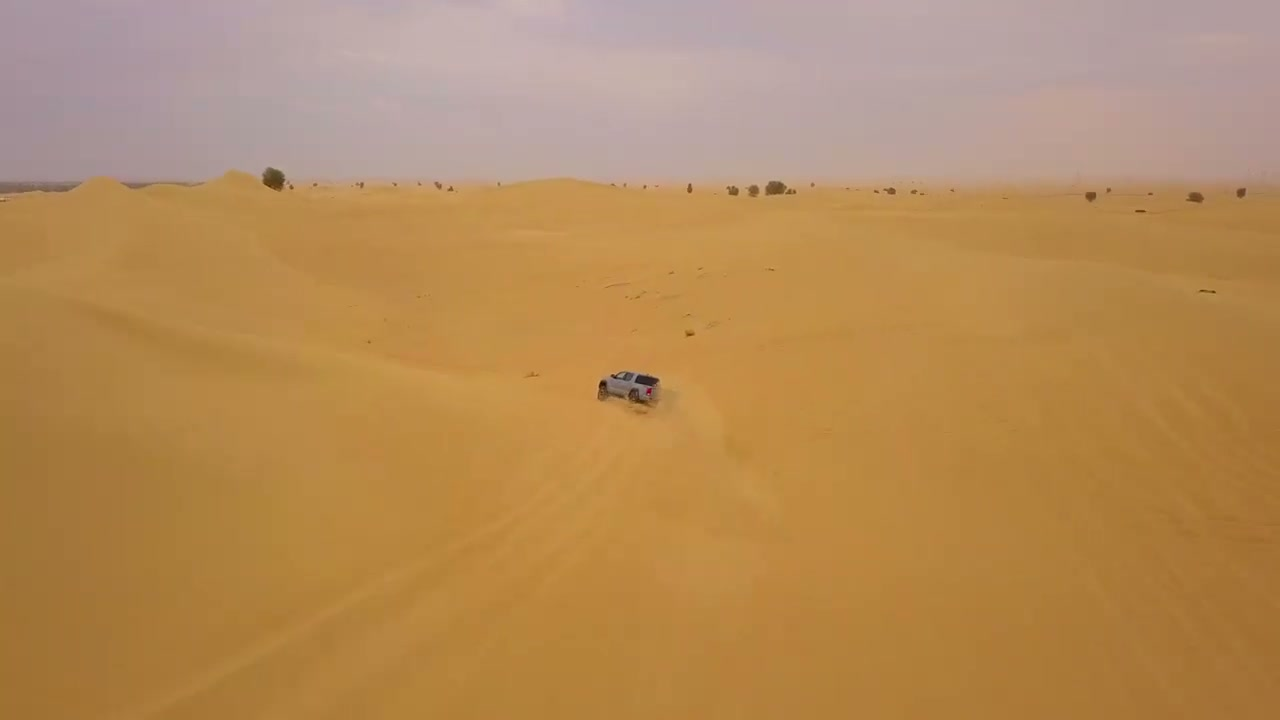vehicle_track: (97, 480, 613, 719)
